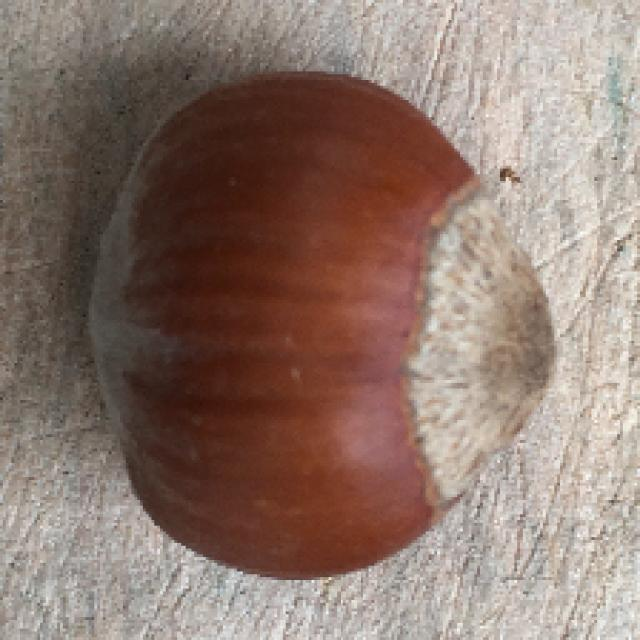qualityHazelnut: (86, 71, 562, 581)
